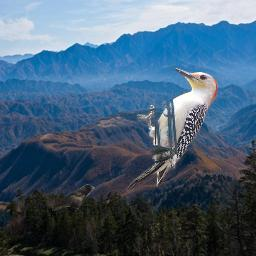Crow: (52, 184, 95, 211)
Woodpecker: (126, 65, 220, 192)
